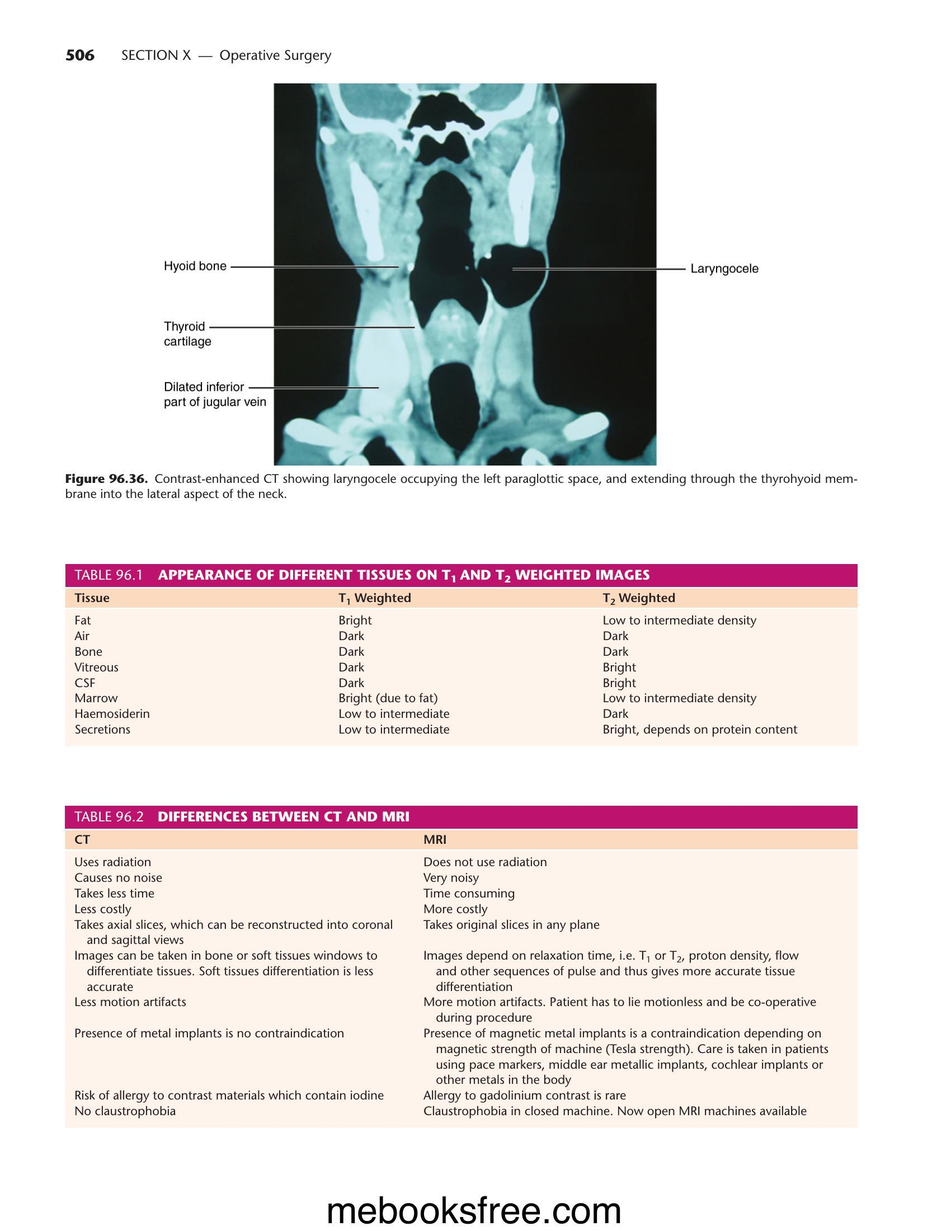caption: (64, 472, 860, 501), (73, 568, 651, 583), (72, 809, 411, 823)
header: (121, 49, 333, 64)
image: (143, 81, 789, 465)
table: (64, 828, 856, 1129), (64, 587, 859, 749)
